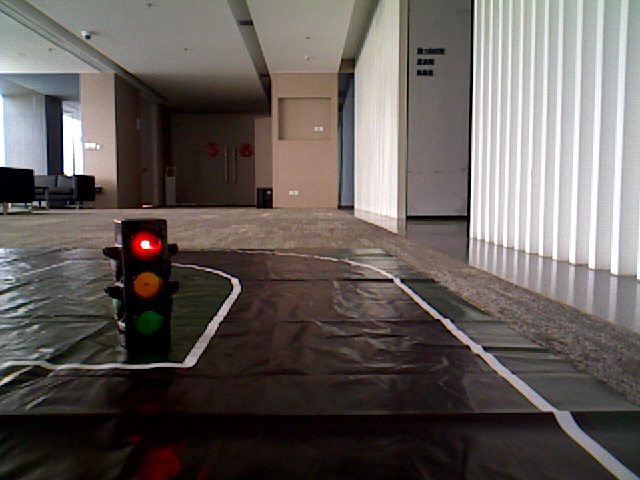red: (121, 227, 168, 339)
